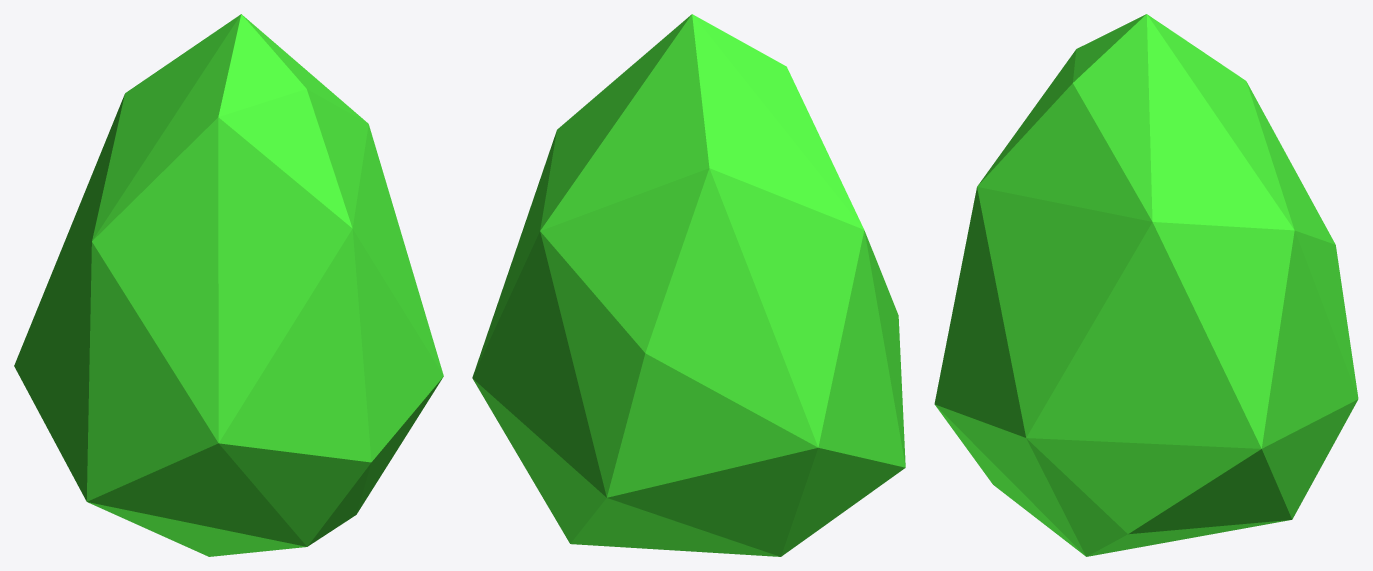
The picture shows the model from 3 angles, left to right: view 1: azimuth 30°, elevation 25°; view 2: azimuth 150°, elevation 25°; view 3: azimuth 270°, elevation 25°; orthographic projection.
Visible parts, largest first — view 1: Sphere.012; view 2: Sphere.012; view 3: Sphere.012.
Part boxes in pixels (x1,y1,x2,y2): Sphere.012: [14, 14, 443, 556]; Sphere.012: [472, 14, 905, 556]; Sphere.012: [934, 14, 1358, 556].
Bounding box in the file's own units: 0.7601 × 1.12 × 0.8136.
